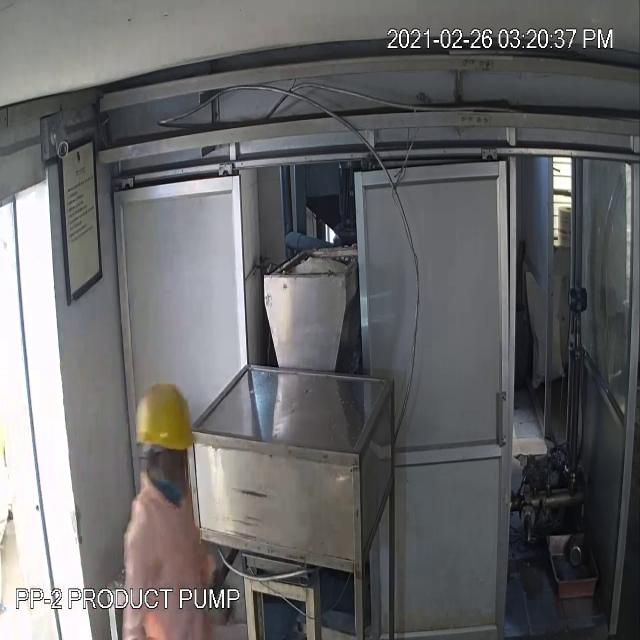Hardhat: (136, 384, 192, 450)
No Overall Suit: (122, 473, 212, 640)
